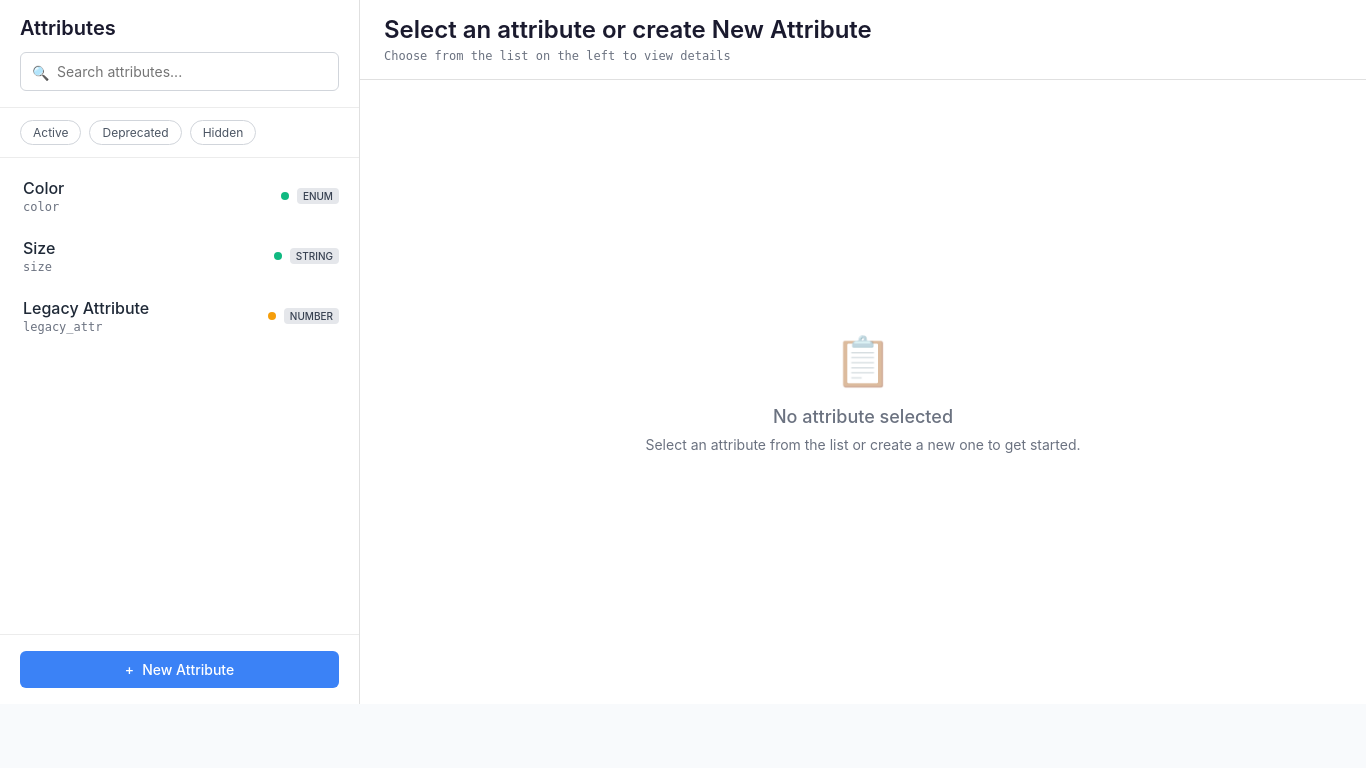
Test: AttributesConsole Shell › filters attributes by status
This screenshot has width=1366, height=768.
Click deprecated filter
Step 1. Click the button with test id "filter-deprecated" → (136,132), box x1=90 y1=120 x2=182 y2=145
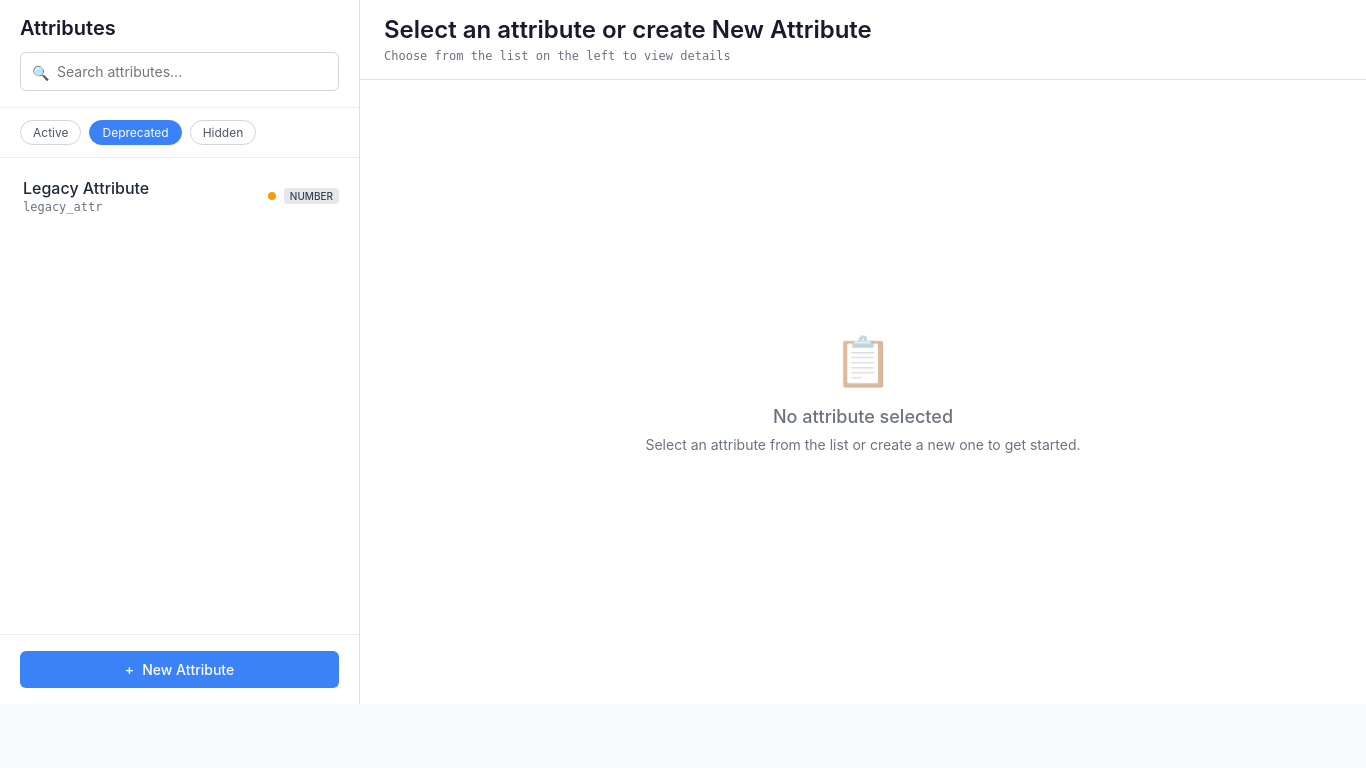
Expected: the option with test id "list-item-legacy_attr" is shown, x1=0 y1=166 x2=359 y2=226
Now the option with test id "list-item-color" is gone
Now the option with test id "list-item-size" is gone
